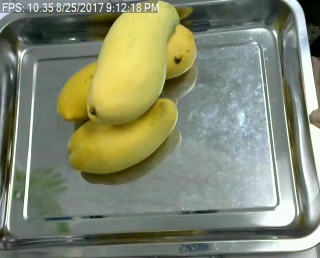Mango: (85, 3, 179, 128), (64, 96, 180, 176), (54, 57, 125, 123), (144, 22, 196, 82)
